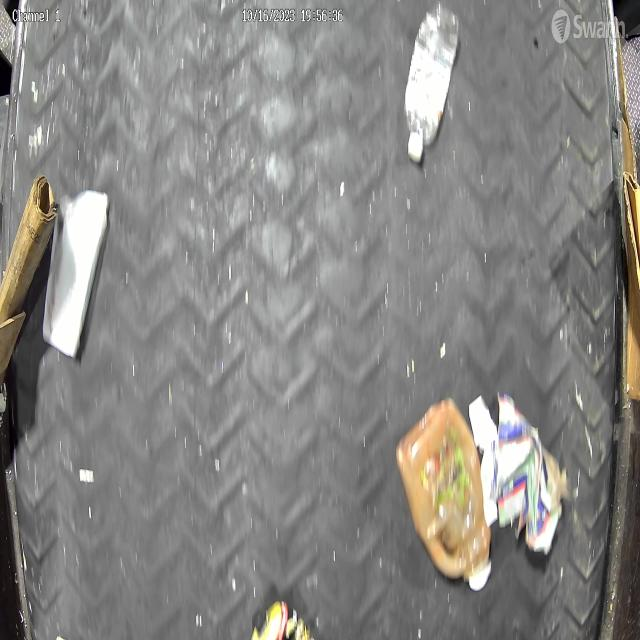non_white_jug: (394, 394, 496, 596)
plastic_bottle: (402, 0, 458, 164)
